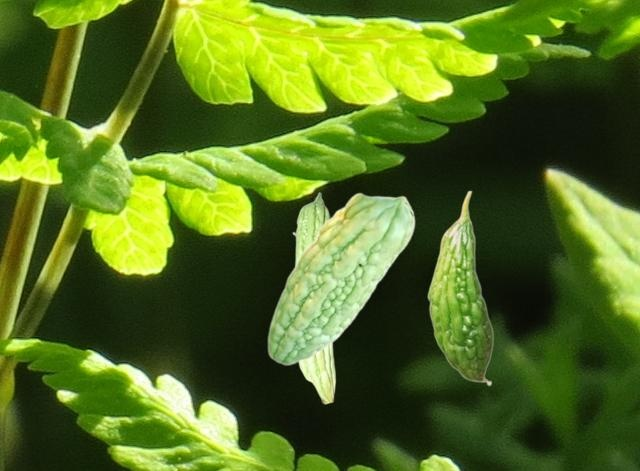ampalaya: (266, 192, 417, 367), (426, 190, 494, 386), (292, 192, 337, 406)
